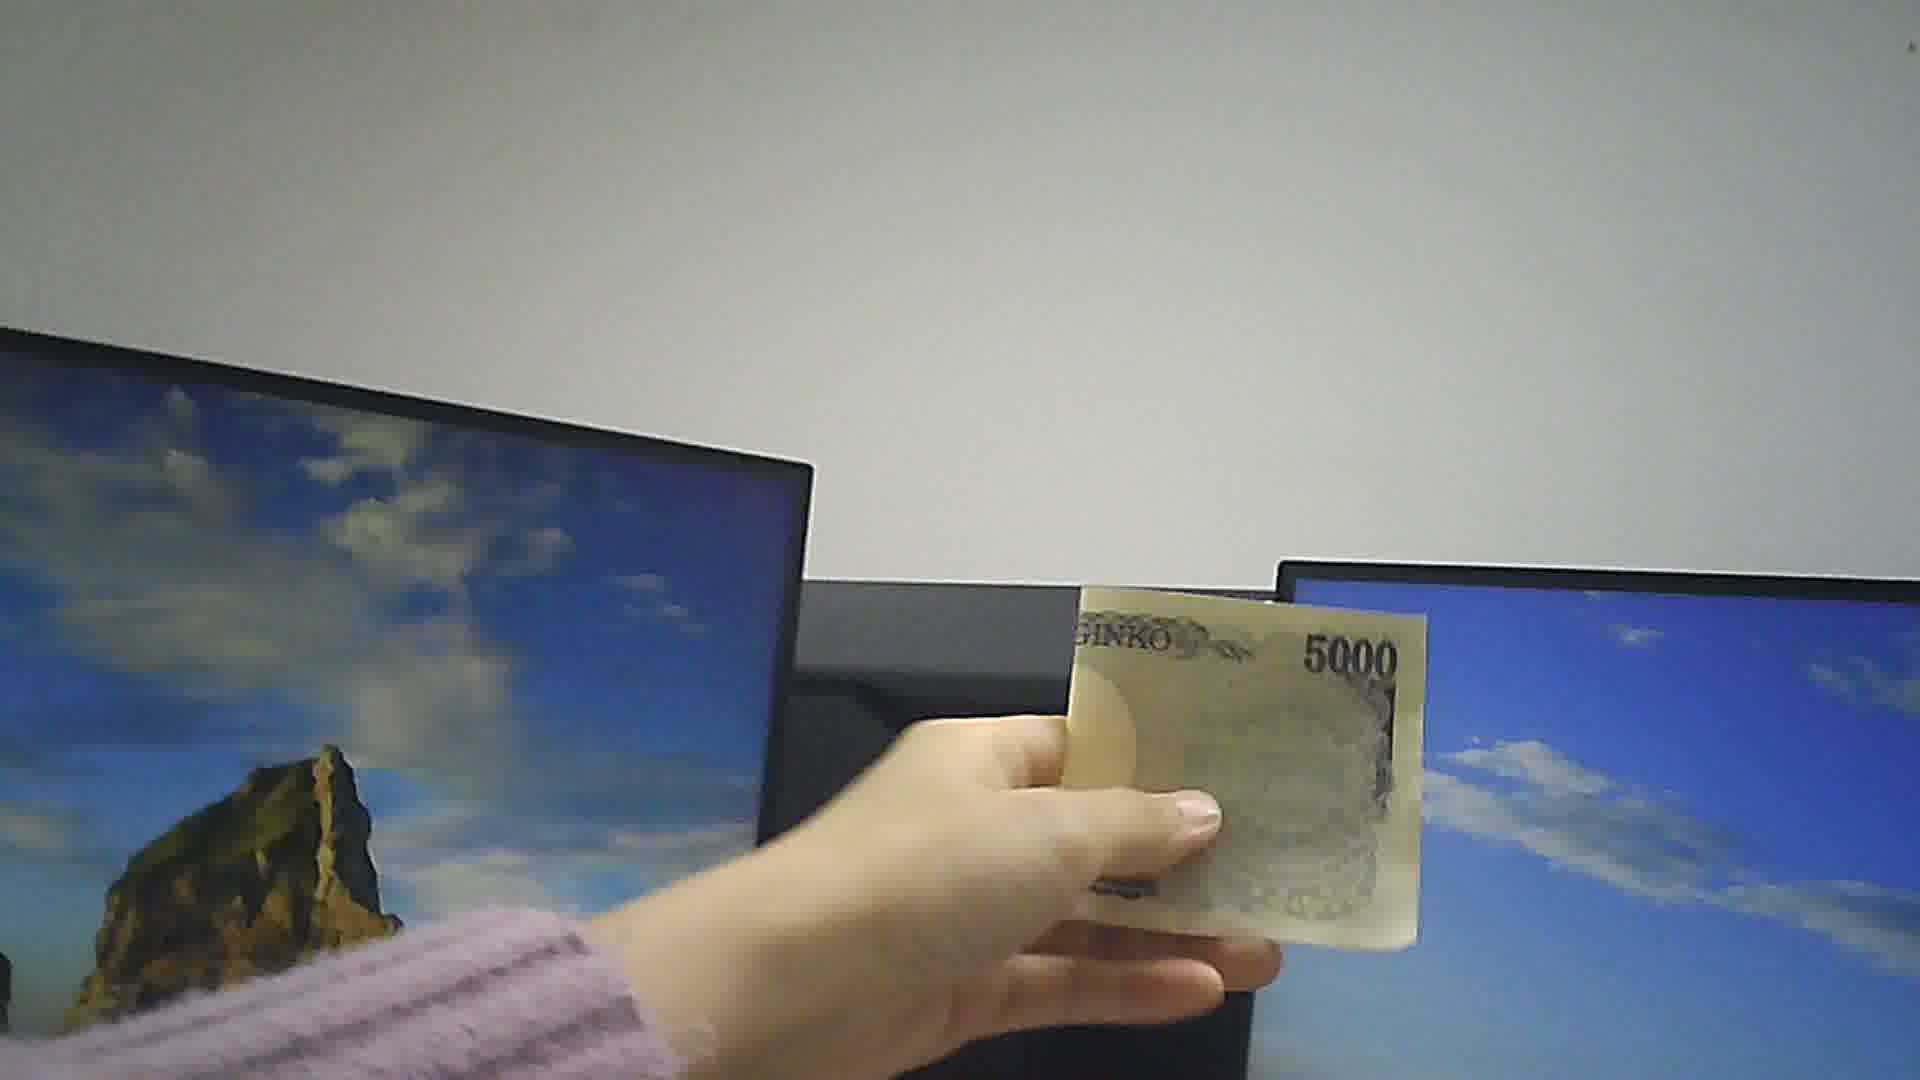5,000 Yen: (1046, 567, 1444, 960)
